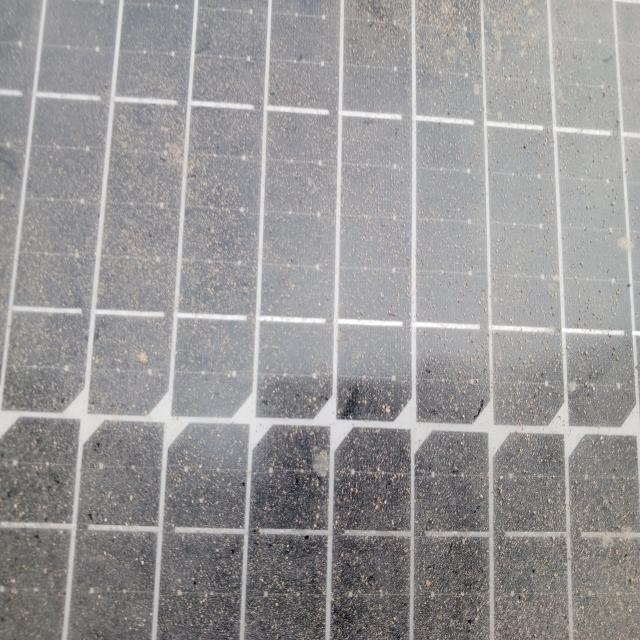Surface Contaminant: (11, 10, 633, 634)
